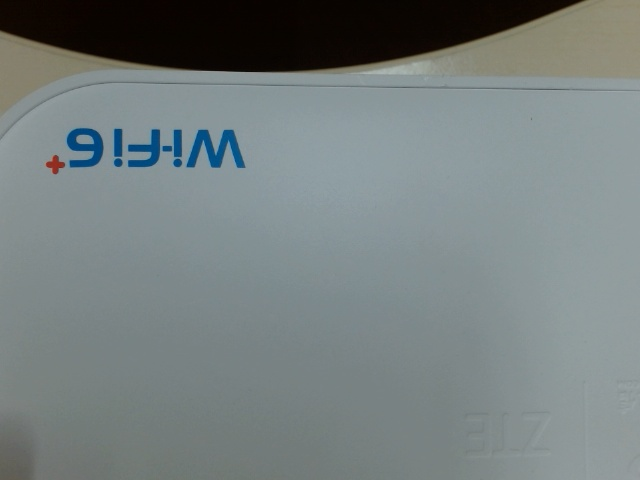AJ_ZTEWIFI6Plus: (35, 112, 250, 184)
